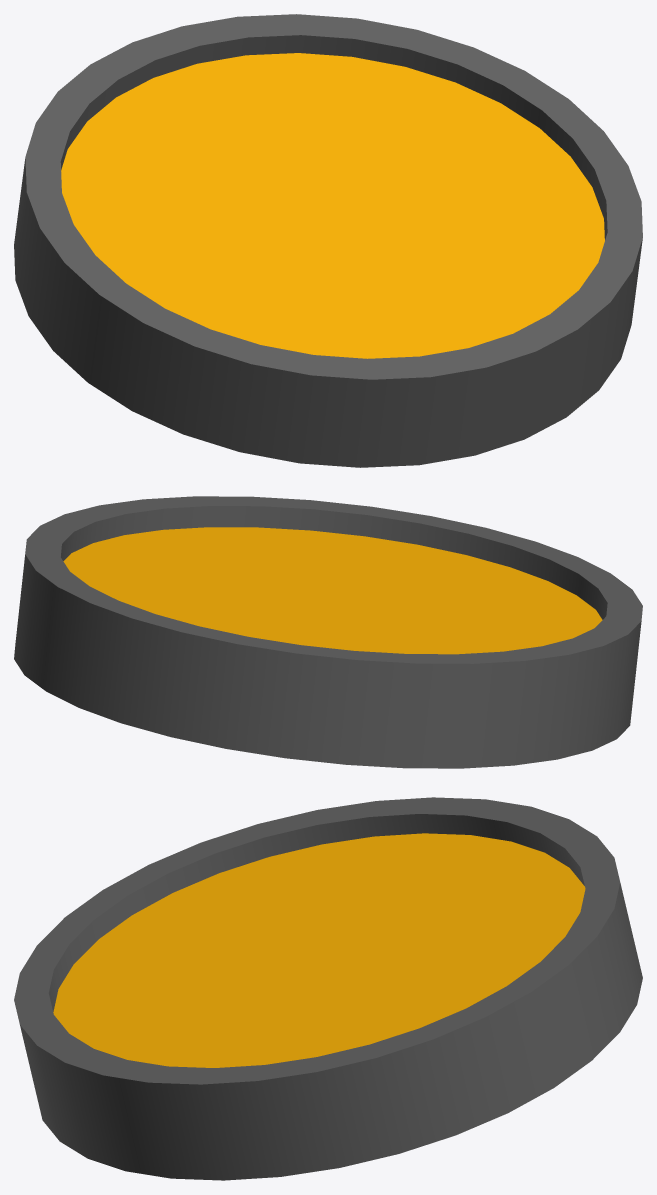
File: menu_plate3.glb
3 renders of one model, top to bottom at view 1: azimuth 30°, elevation 25°; view 2: azimuth 150°, elevation 25°; view 3: azimuth 270°, elevation 25°, orthographic.
Visible parts, largest first — view 1: Cylinder.003; view 2: Cylinder.003; view 3: Cylinder.003.
Part boxes in pixels (x1,y1,x2,y2): Cylinder.003: (14, 14, 642, 467); Cylinder.003: (14, 496, 642, 768); Cylinder.003: (14, 797, 642, 1180).
Size of the model in its own units: 0.8021 by 0.3052 by 0.8136.
